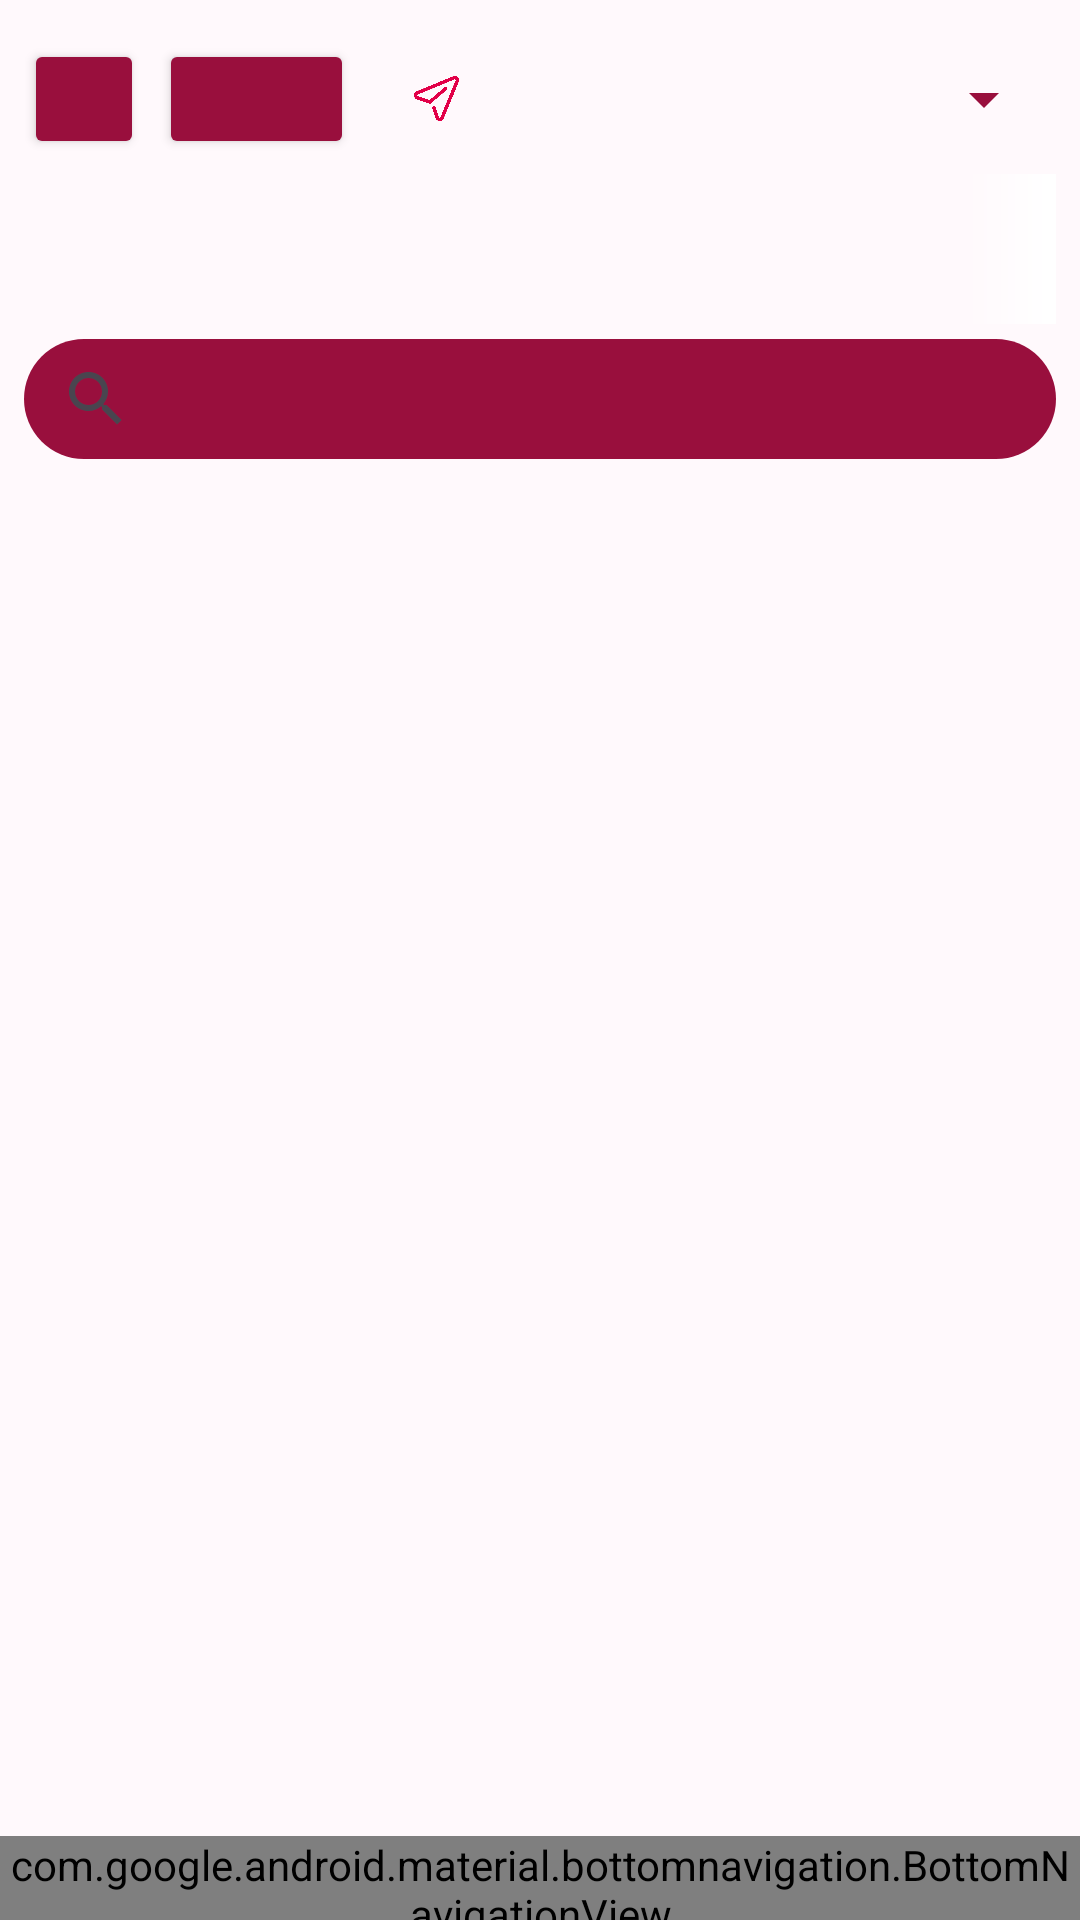

Screen size 1080 × 1920. Icon name, then its center in pixels as (x,y):
paper: (436,98)
